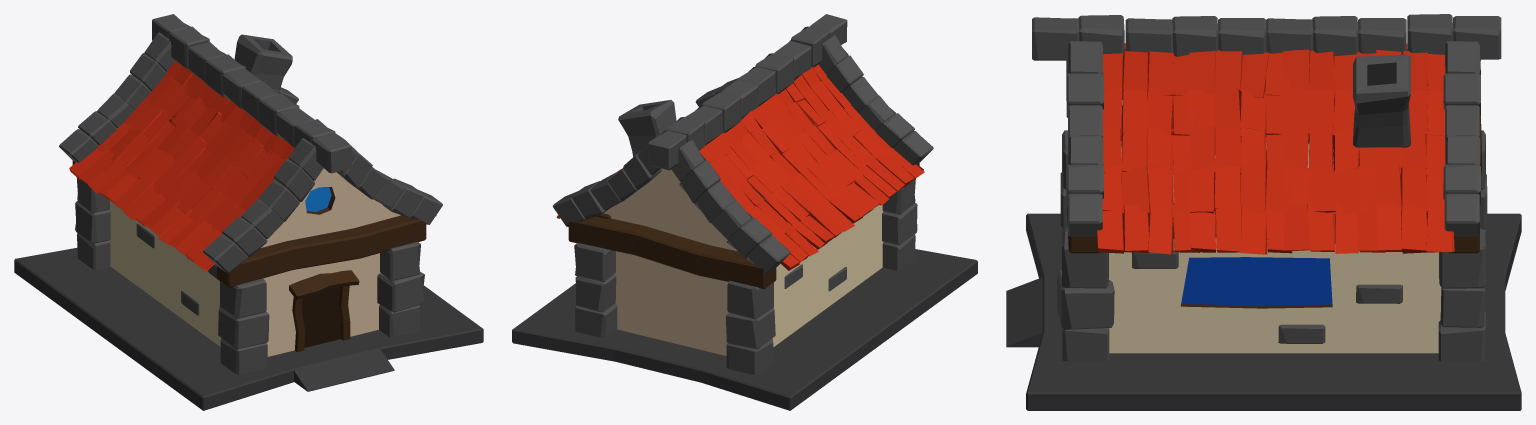
File: LowPolyHouseMine.glb
The picture shows the model from 3 angles, left to right: view 1: azimuth 30°, elevation 25°; view 2: azimuth 150°, elevation 25°; view 3: azimuth 270°, elevation 25°; orthographic projection. The views are drawn at different scales.
Parts seen in each view (by area): view 1: Cube.047, Cube.048, Plane, Cube, Plane.002, Cube.049, Cube.002, Cube.004, Cube.001, Cube.005, Cube.006, Cube.044 (+30 smaller); view 2: Cube.047, Cube.048, Plane.001, Plane.002, Cube, Cube.049, Cube.010, Cube.011, Cube.008, Cube.012, Cube.007, Cube.009 (+31 smaller); view 3: Cube.050, Cube.048, Plane.002, Cube.049, Cube.002, Cube.001, Cube.044, Cube.008, Cube.007, Cube.045, Cube.037, Cube.009 (+21 smaller).
Boxes of the visible parts, x1,y1,x2,y2 form: Cube.047: [69, 61, 294, 270]; Cube.048: [14, 248, 483, 410]; Plane: [261, 168, 400, 356]; Cube: [72, 160, 426, 351]; Plane.002: [109, 200, 221, 346]; Cube.049: [234, 34, 292, 92]; Cube.002: [136, 223, 420, 315]; Cube.004: [218, 307, 269, 349]; Cube.001: [377, 271, 424, 312]; Cube.005: [220, 278, 266, 318]; Cube.006: [220, 338, 267, 374]; Cube.044: [312, 133, 351, 173]; Cube.047: [699, 64, 924, 270]; Cube.048: [512, 249, 977, 410]; Plane.001: [604, 168, 737, 355]; Plane.002: [772, 205, 883, 346]; Cube: [568, 163, 919, 289]; Cube.049: [618, 100, 676, 156]; Cube.010: [725, 308, 775, 349]; Cube.011: [727, 280, 773, 319]; Cube.008: [574, 243, 615, 282]; Cube.012: [726, 338, 773, 375]; Cube.007: [575, 274, 616, 311]; Cube.009: [574, 303, 617, 337]; Cube.050: [1097, 49, 1454, 254]; Cube.048: [1006, 213, 1521, 410]; Plane.002: [1108, 100, 1441, 353]; Cube.049: [1353, 54, 1410, 147]; Cube.002: [1062, 160, 1402, 343]; Cube.001: [1057, 270, 1114, 329]; Cube.044: [1032, 17, 1079, 60]; Cube.008: [1439, 228, 1485, 288]; Cube.007: [1440, 287, 1485, 327]; Cube.045: [1407, 14, 1453, 54]; Cube.037: [1312, 16, 1358, 56]; Cube.009: [1438, 311, 1485, 361].
Bounding box in the file's own units: 4.53 × 3.53 × 5.49.
Materials: 1 (1 with a texture image).
